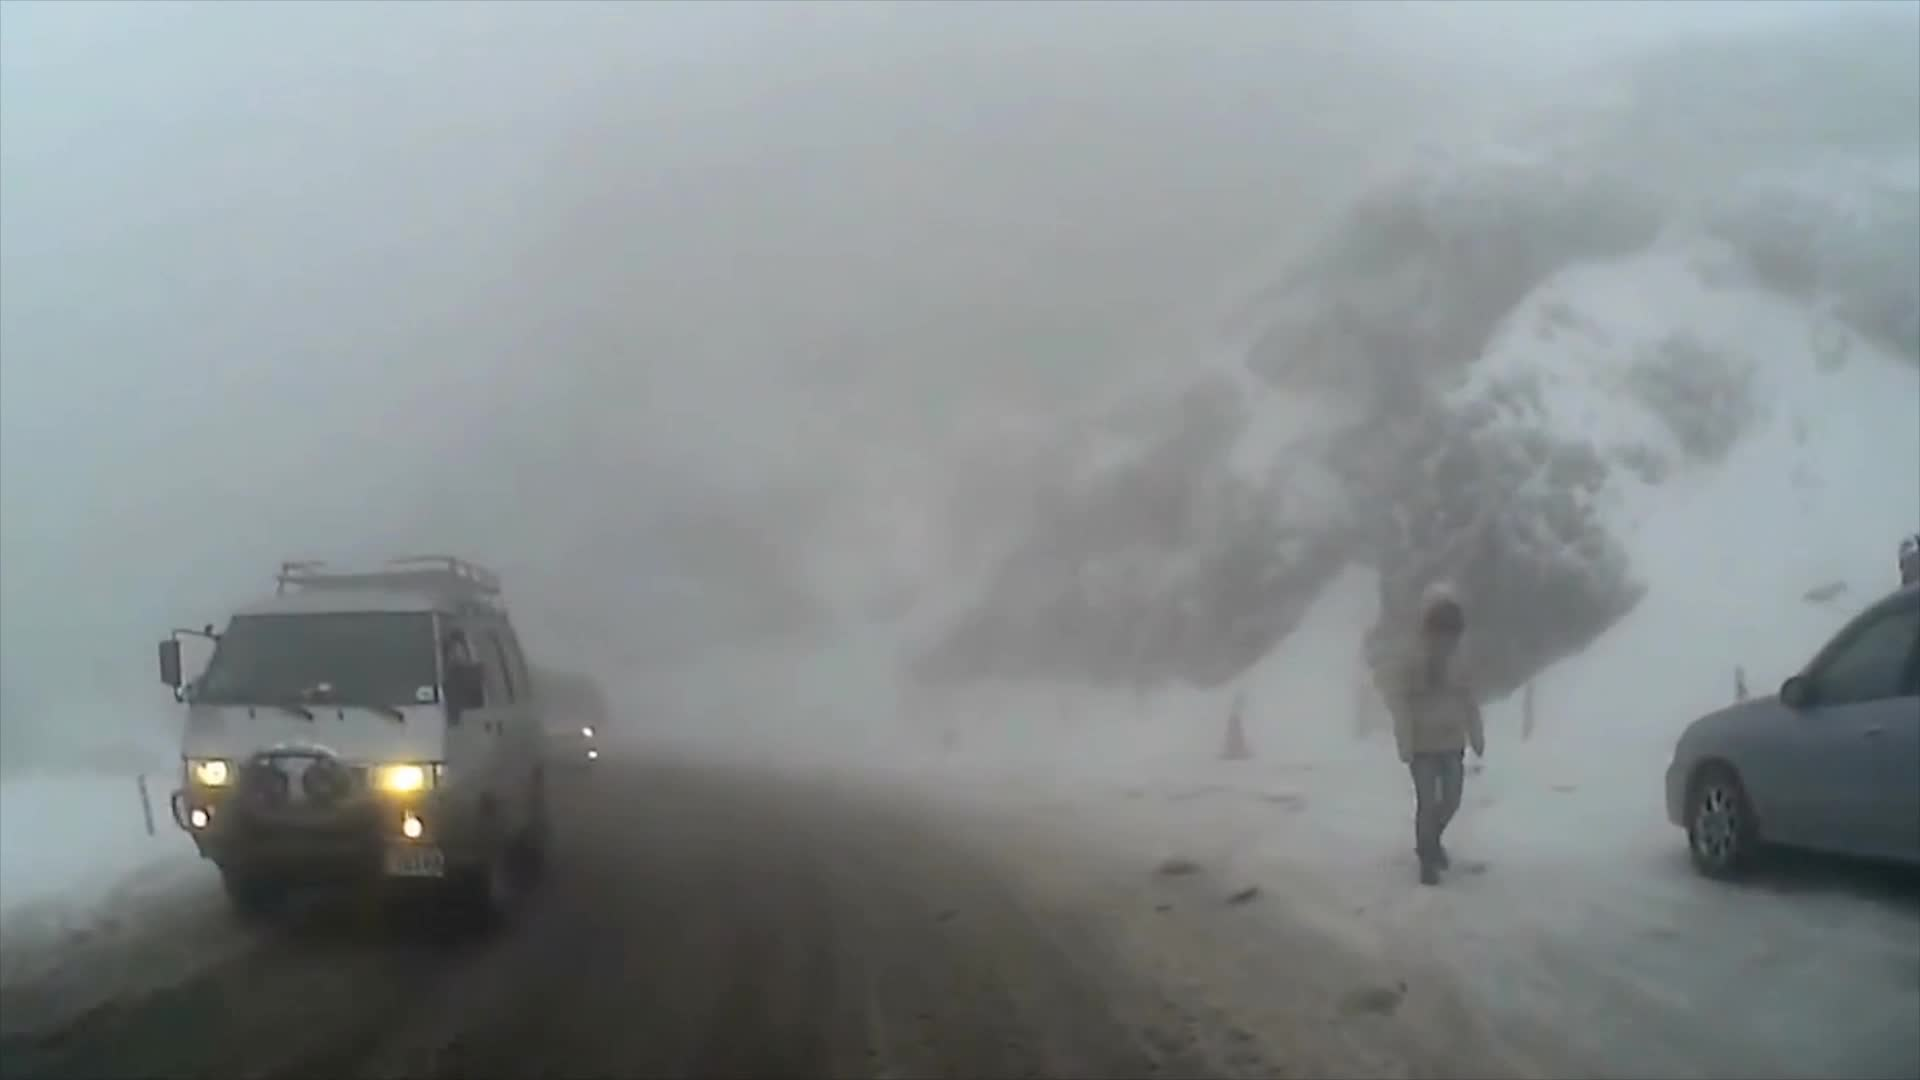pedestrian: (1389, 578, 1484, 887)
vehicle: (154, 548, 548, 930), (1662, 566, 1919, 892)
